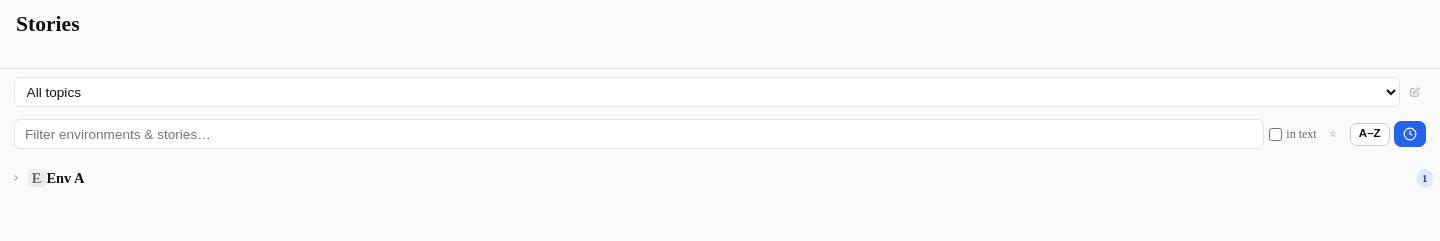
SideBarComponent › inline chat-title editing › rename button enters edit mode with the current title prefilled
This screenshot has width=1440, height=241.
What coordinates should you click on to do the following:
click the button with class "expand-btn"
I would click on:
 (16, 178)
Its box is [5, 167, 27, 189].
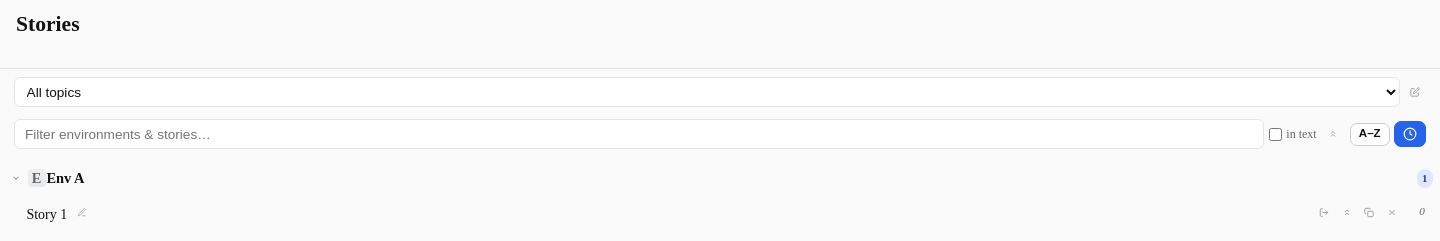
What coordinates should you click on to do the following:
click the button named "Rename story"
I would click on:
 (82, 212)
Its box is [71, 201, 93, 223].
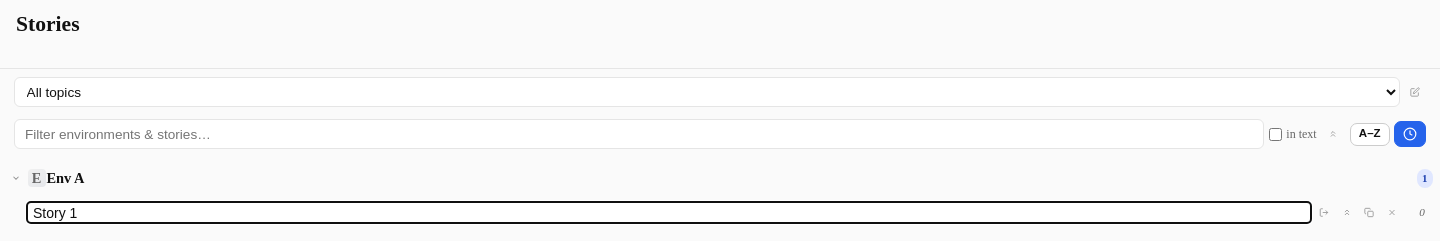
Result: the field with class "chat-title-input" is shown at [26, 201, 1312, 224]
